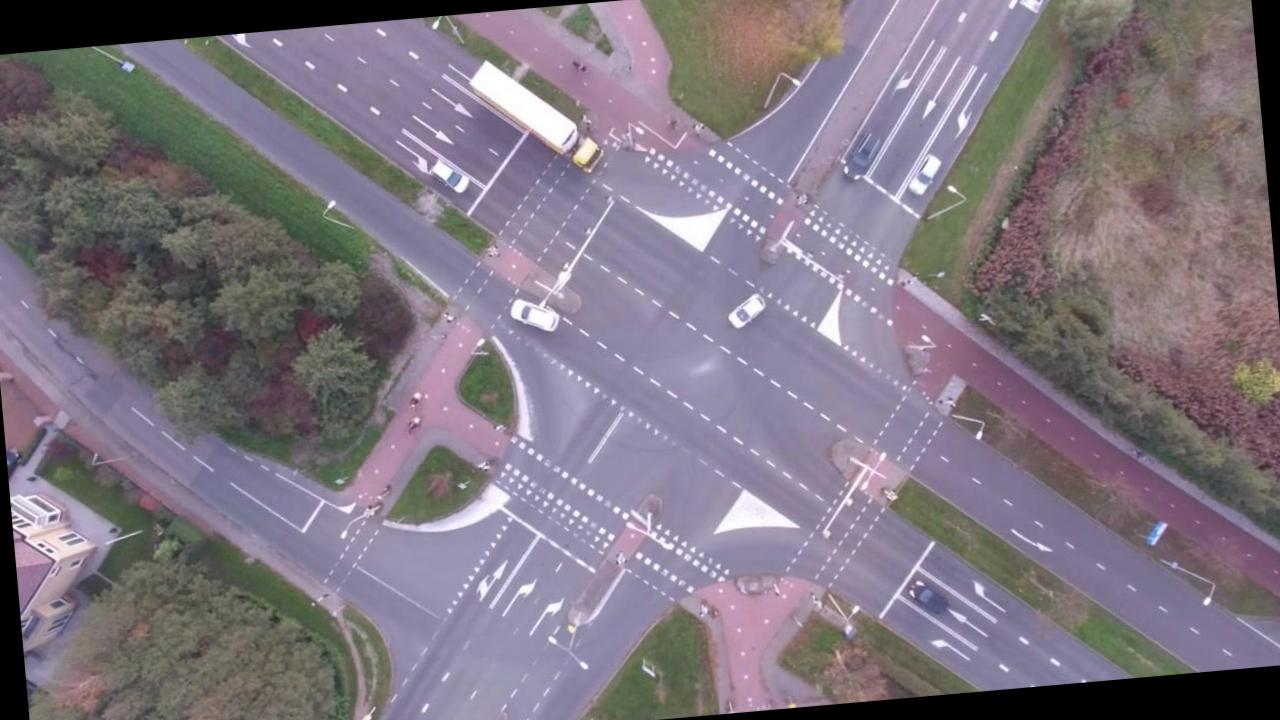vehicle: (467, 50, 608, 186), (838, 129, 886, 183), (508, 293, 562, 336), (905, 152, 944, 198), (907, 576, 949, 618), (726, 293, 769, 331), (429, 158, 472, 195)
